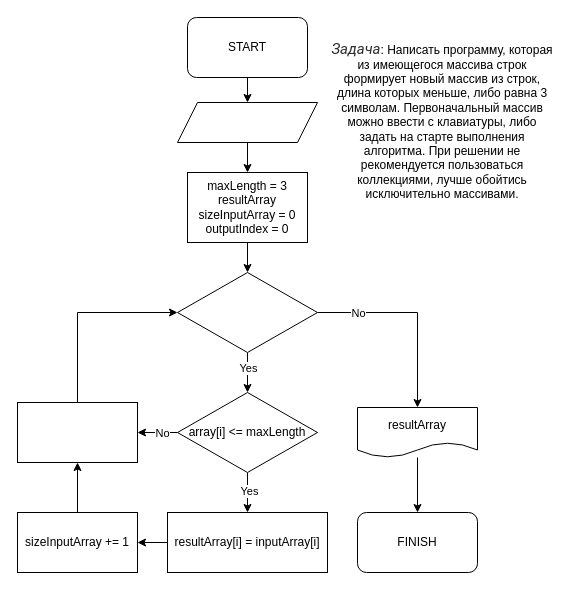
The diagram is 575 pixels wide and 590 high, and some of its shapes have lost their labels. Here are the shapes that lost their labels. From the top down, the centre of each, then its label:
At (247,122): "inputArray".
At (247,312): "i < inputArray.Length".
At (77,432): "outputIndex += 1".
